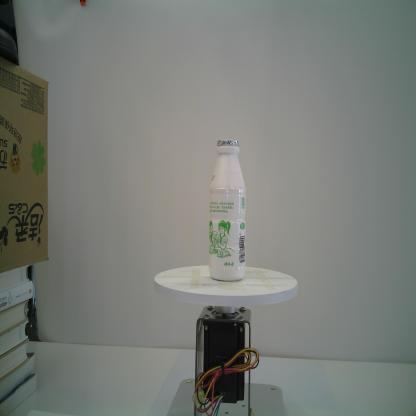Milk: (208, 139, 247, 282)
